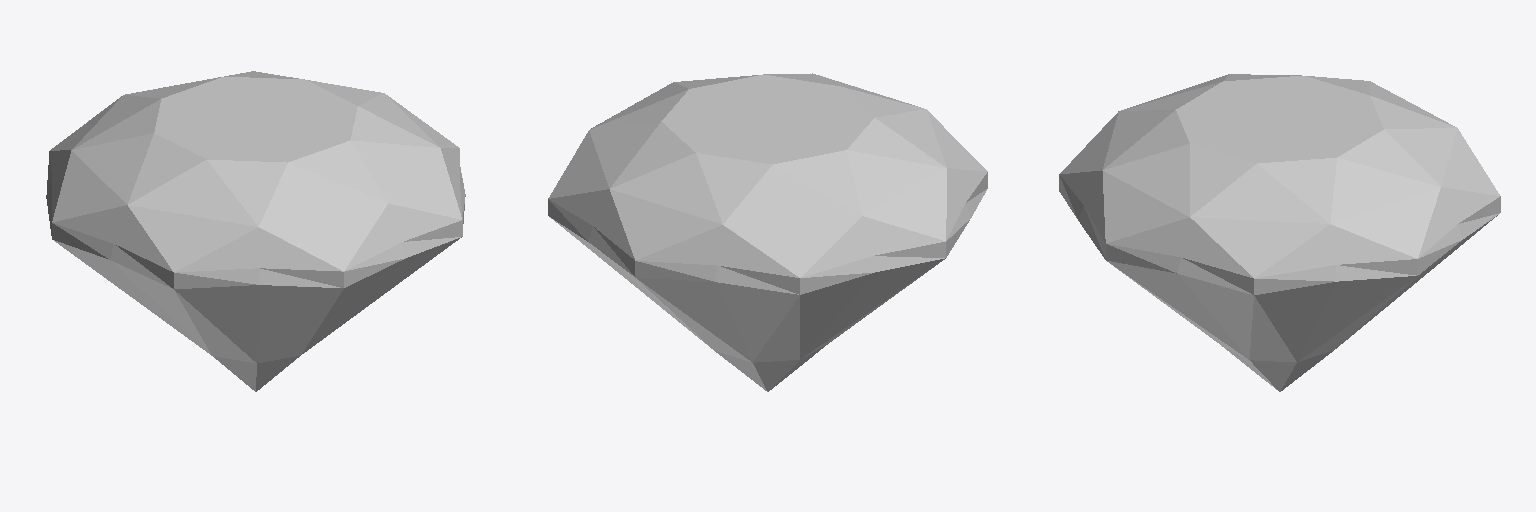
The model's file is Diamond.obj.
3 views of the same model, side by side, from view 1: azimuth 30°, elevation 25°; view 2: azimuth 150°, elevation 25°; view 3: azimuth 270°, elevation 25° (orthographic).
Parts seen in each view (by area): view 1: Cylinder.001; view 2: Cylinder.001; view 3: Cylinder.001.
Part boxes in pixels (left/top/right/bottom): Cylinder.001: left=46, top=71, right=465, bottom=391; Cylinder.001: left=548, top=73, right=987, bottom=391; Cylinder.001: left=1059, top=74, right=1500, bottom=391.
Size of the model in its own units: 1.61 by 1.1 by 1.61.